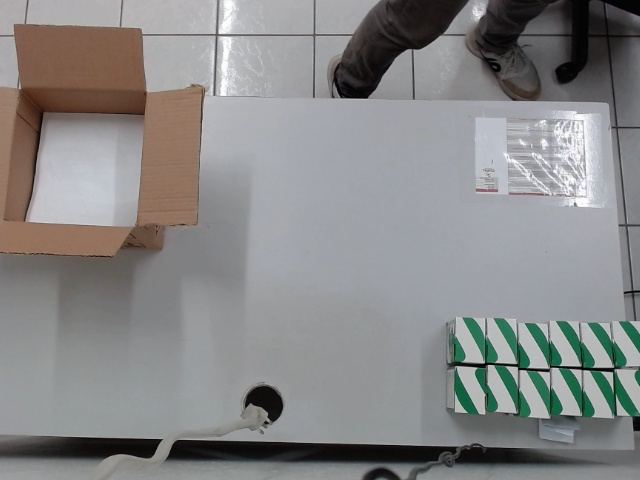caixa_principal: (0, 19, 209, 268)
